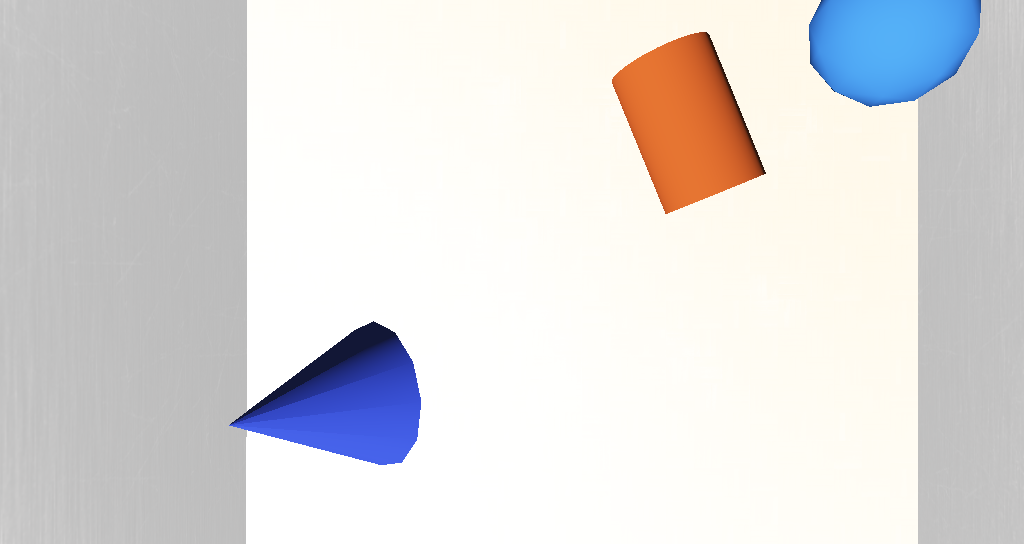cone: (512, 198, 579, 251)
cylinder: (330, 284, 438, 336)
sphere: (603, 172, 664, 220)
